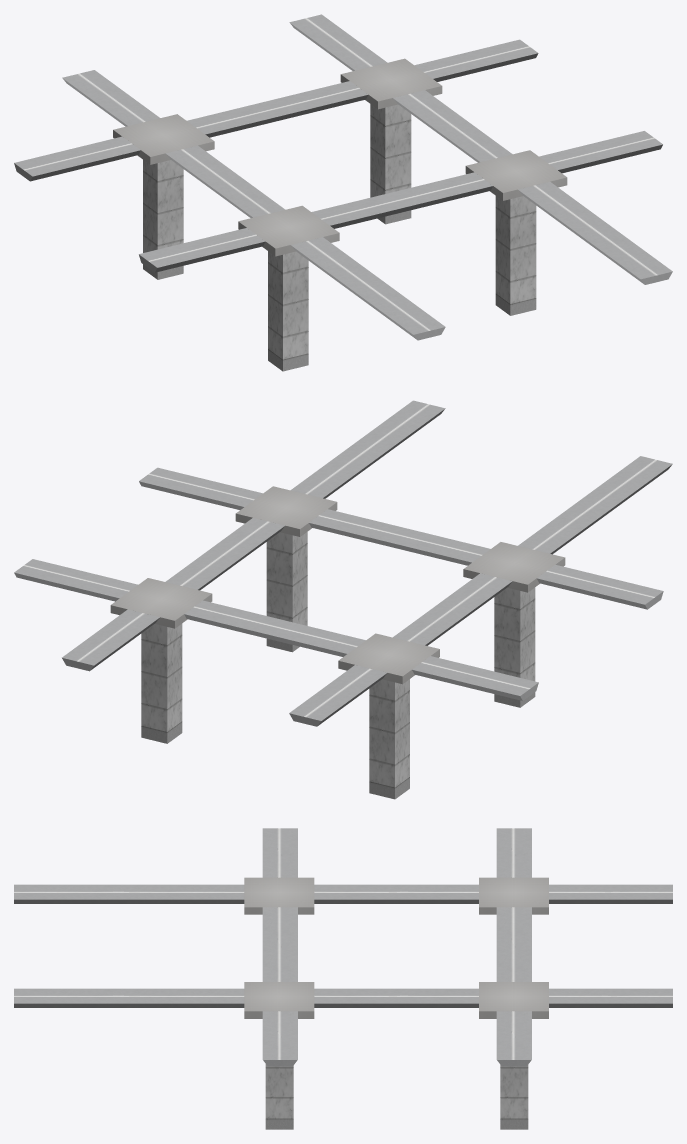
File: Subway02_InterCalumn.FBX
3 renders of one model, top to bottom at view 1: azimuth 30°, elevation 25°; view 2: azimuth 150°, elevation 25°; view 3: azimuth 270°, elevation 25°, orthographic. The views are drawn at different scales.
Visible parts, largest first — view 1: Subway02_InterCeiling02, Subway02_InterCalumn01, Subway02_InterCalumn02; view 2: Subway02_InterCeiling02, Subway02_InterCalumn01, Subway02_InterCalumn02; view 3: Subway02_InterCeiling02, Subway02_InterCalumn02, Subway02_InterCalumn01.
Part boxes in pixels (left/top/right/bottom): Subway02_InterCeiling02: left=14, top=14, right=672, bottom=340; Subway02_InterCalumn01: left=143, top=104, right=536, bottom=371; Subway02_InterCalumn02: left=113, top=58, right=567, bottom=256; Subway02_InterCeiling02: left=14, top=400, right=672, bottom=726; Subway02_InterCalumn01: left=141, top=532, right=535, bottom=799; Subway02_InterCalumn02: left=110, top=486, right=565, bottom=684; Subway02_InterCeiling02: left=14, top=828, right=672, bottom=1066; Subway02_InterCalumn02: left=244, top=877, right=548, bottom=1018; Subway02_InterCalumn01: left=265, top=1064, right=528, bottom=1129.
Bounding box in the file's own units: 23417 × 6001 × 28160.
